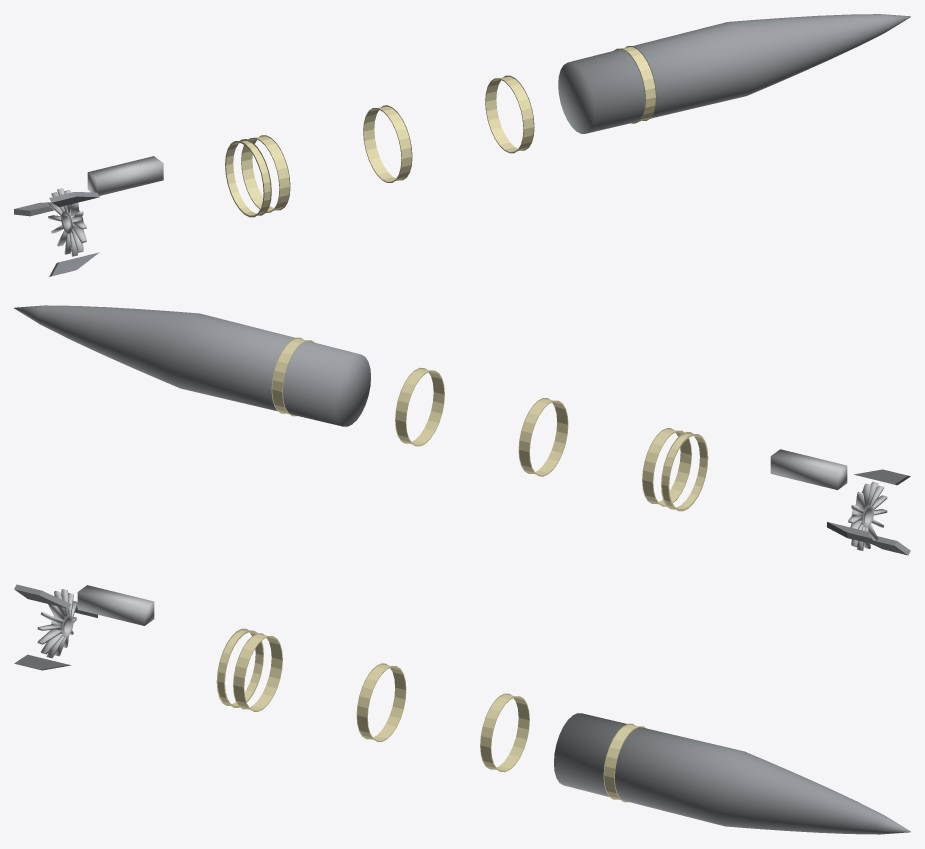
File: CN_TORP_Yu6_LOD1.fbx
The picture shows the model from 3 angles, top to bottom: view 1: azimuth 30°, elevation 25°; view 2: azimuth 150°, elevation 25°; view 3: azimuth 330°, elevation 25°; orthographic projection.
Parts seen in each view (by area): view 1: WPN_CN_TORP_Yu6_LOD1_Body, WPN_CN_TORP_Yu6_LOD1_Marking, WPN_CN_TORP_Yu6_LOD1_Detail, WPN_CN_TORP_Yu6_LOD1_Propulsor, WPN_CN_TORP_Yu6_LOD1_Fins; view 2: WPN_CN_TORP_Yu6_LOD1_Body, WPN_CN_TORP_Yu6_LOD1_Marking, WPN_CN_TORP_Yu6_LOD1_Detail, WPN_CN_TORP_Yu6_LOD1_Propulsor, WPN_CN_TORP_Yu6_LOD1_Fins; view 3: WPN_CN_TORP_Yu6_LOD1_Body, WPN_CN_TORP_Yu6_LOD1_Marking, WPN_CN_TORP_Yu6_LOD1_Detail, WPN_CN_TORP_Yu6_LOD1_Propulsor, WPN_CN_TORP_Yu6_LOD1_Fins.
Boxes of the visible parts, bbox=[...] form: WPN_CN_TORP_Yu6_LOD1_Body: bbox=[558, 14, 910, 133]; WPN_CN_TORP_Yu6_LOD1_Marking: bbox=[225, 46, 656, 217]; WPN_CN_TORP_Yu6_LOD1_Detail: bbox=[87, 156, 163, 195]; WPN_CN_TORP_Yu6_LOD1_Propulsor: bbox=[48, 188, 86, 256]; WPN_CN_TORP_Yu6_LOD1_Fins: bbox=[14, 192, 99, 276]; WPN_CN_TORP_Yu6_LOD1_Body: bbox=[14, 305, 370, 426]; WPN_CN_TORP_Yu6_LOD1_Marking: bbox=[271, 337, 708, 511]; WPN_CN_TORP_Yu6_LOD1_Detail: bbox=[770, 449, 847, 490]; WPN_CN_TORP_Yu6_LOD1_Propulsor: bbox=[848, 481, 887, 550]; WPN_CN_TORP_Yu6_LOD1_Fins: bbox=[827, 469, 910, 555]; WPN_CN_TORP_Yu6_LOD1_Body: bbox=[554, 713, 910, 834]; WPN_CN_TORP_Yu6_LOD1_Marking: bbox=[216, 628, 645, 802]; WPN_CN_TORP_Yu6_LOD1_Detail: bbox=[77, 585, 154, 625]; WPN_CN_TORP_Yu6_LOD1_Propulsor: bbox=[37, 589, 76, 658]; WPN_CN_TORP_Yu6_LOD1_Fins: bbox=[14, 584, 97, 670].
Bounding box in the file's own units: 7.01 × 0.6119 × 0.6147.
